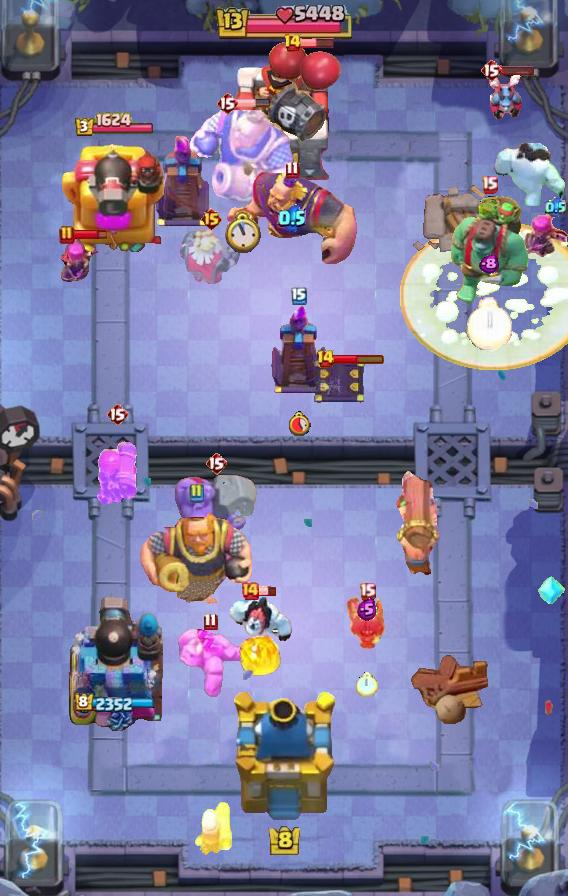archer-queen: (171, 470, 261, 548)
battle-healer: (393, 463, 441, 577)
clock: (213, 5, 355, 43)
electro-spirit: (278, 204, 306, 232), (545, 197, 566, 219), (357, 599, 377, 622), (479, 254, 499, 274)
elixir: (466, 297, 512, 350), (225, 212, 261, 254), (287, 411, 311, 436), (356, 672, 378, 697)
emote: (332, 353, 385, 365), (73, 228, 108, 241), (299, 37, 335, 49), (499, 64, 535, 76), (235, 98, 271, 108), (258, 586, 278, 597)
evolution-symbol: (510, 208, 568, 266), (56, 231, 100, 287)
giant-skeleton: (138, 507, 254, 607), (190, 104, 297, 206)
golden-knight: (346, 593, 388, 653)
ice-spirit-evolution-symbol: (152, 136, 212, 228), (269, 303, 329, 395), (313, 356, 367, 406)
king-tower: (227, 692, 341, 826), (229, 43, 339, 181)
lava-hound: (447, 193, 531, 305)
lightning: (225, 171, 360, 271)
mega-minion: (93, 428, 141, 508)
mortar-evolution: (180, 224, 242, 284)
pad_2: (537, 573, 565, 607)
phoenix-big: (400, 221, 568, 371)
rage: (494, 142, 568, 206), (226, 593, 296, 645)
royal-delivery: (486, 71, 524, 121)
royal-recruit-evolution: (263, 40, 341, 146)
selected: (73, 112, 154, 138), (73, 693, 154, 714)
text: (200, 207, 223, 231), (480, 58, 502, 82), (216, 91, 238, 115), (106, 402, 128, 426), (205, 451, 227, 475), (240, 581, 260, 601), (283, 33, 302, 53), (317, 349, 336, 369), (481, 175, 499, 193), (359, 582, 376, 601), (59, 225, 75, 245), (188, 483, 204, 503), (291, 287, 307, 305), (202, 612, 217, 631), (285, 161, 300, 179)
tombstone: (192, 799, 234, 857)
tower-bar: (65, 593, 163, 731), (60, 138, 168, 256)
valkyrie: (235, 623, 287, 679)
valkyrie-evolution: (176, 627, 244, 699)
